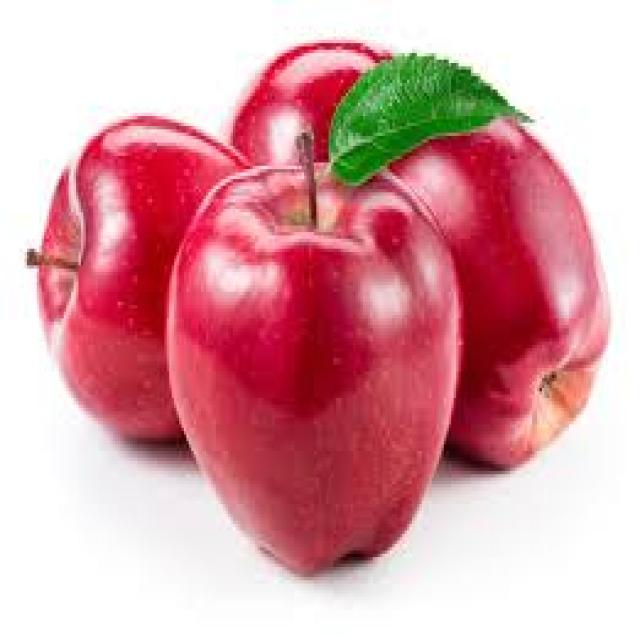apple: (164, 150, 468, 581)
